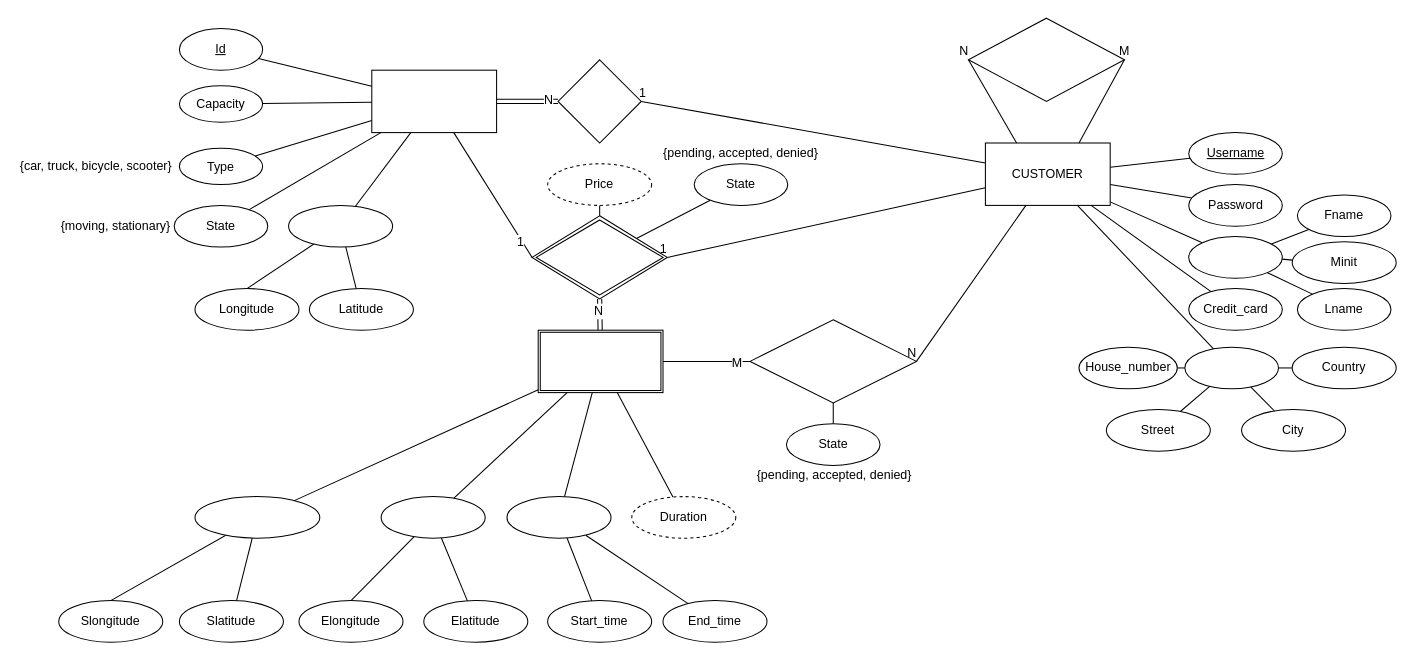
Image size: 1414x660. Some labels were removed from this diagram. Each missing label, with the box of its shape:
Address: (1184, 346, 1278, 389)
Coordinates: (288, 204, 393, 247)
End_coordinates: (380, 496, 485, 538)
FRIENDS_WITH: (967, 17, 1124, 101)
Full_name: (1188, 236, 1282, 278)
OWNS: (557, 59, 641, 143)
RENTAL_SLOT: (537, 329, 663, 393)
REQUESTS: (531, 215, 667, 299)
Start_coordinates: (194, 496, 320, 538)
Time: (506, 496, 611, 538)
VEHICLE: (371, 69, 497, 133)
WANTS_TO_JOIN: (749, 319, 916, 403)
